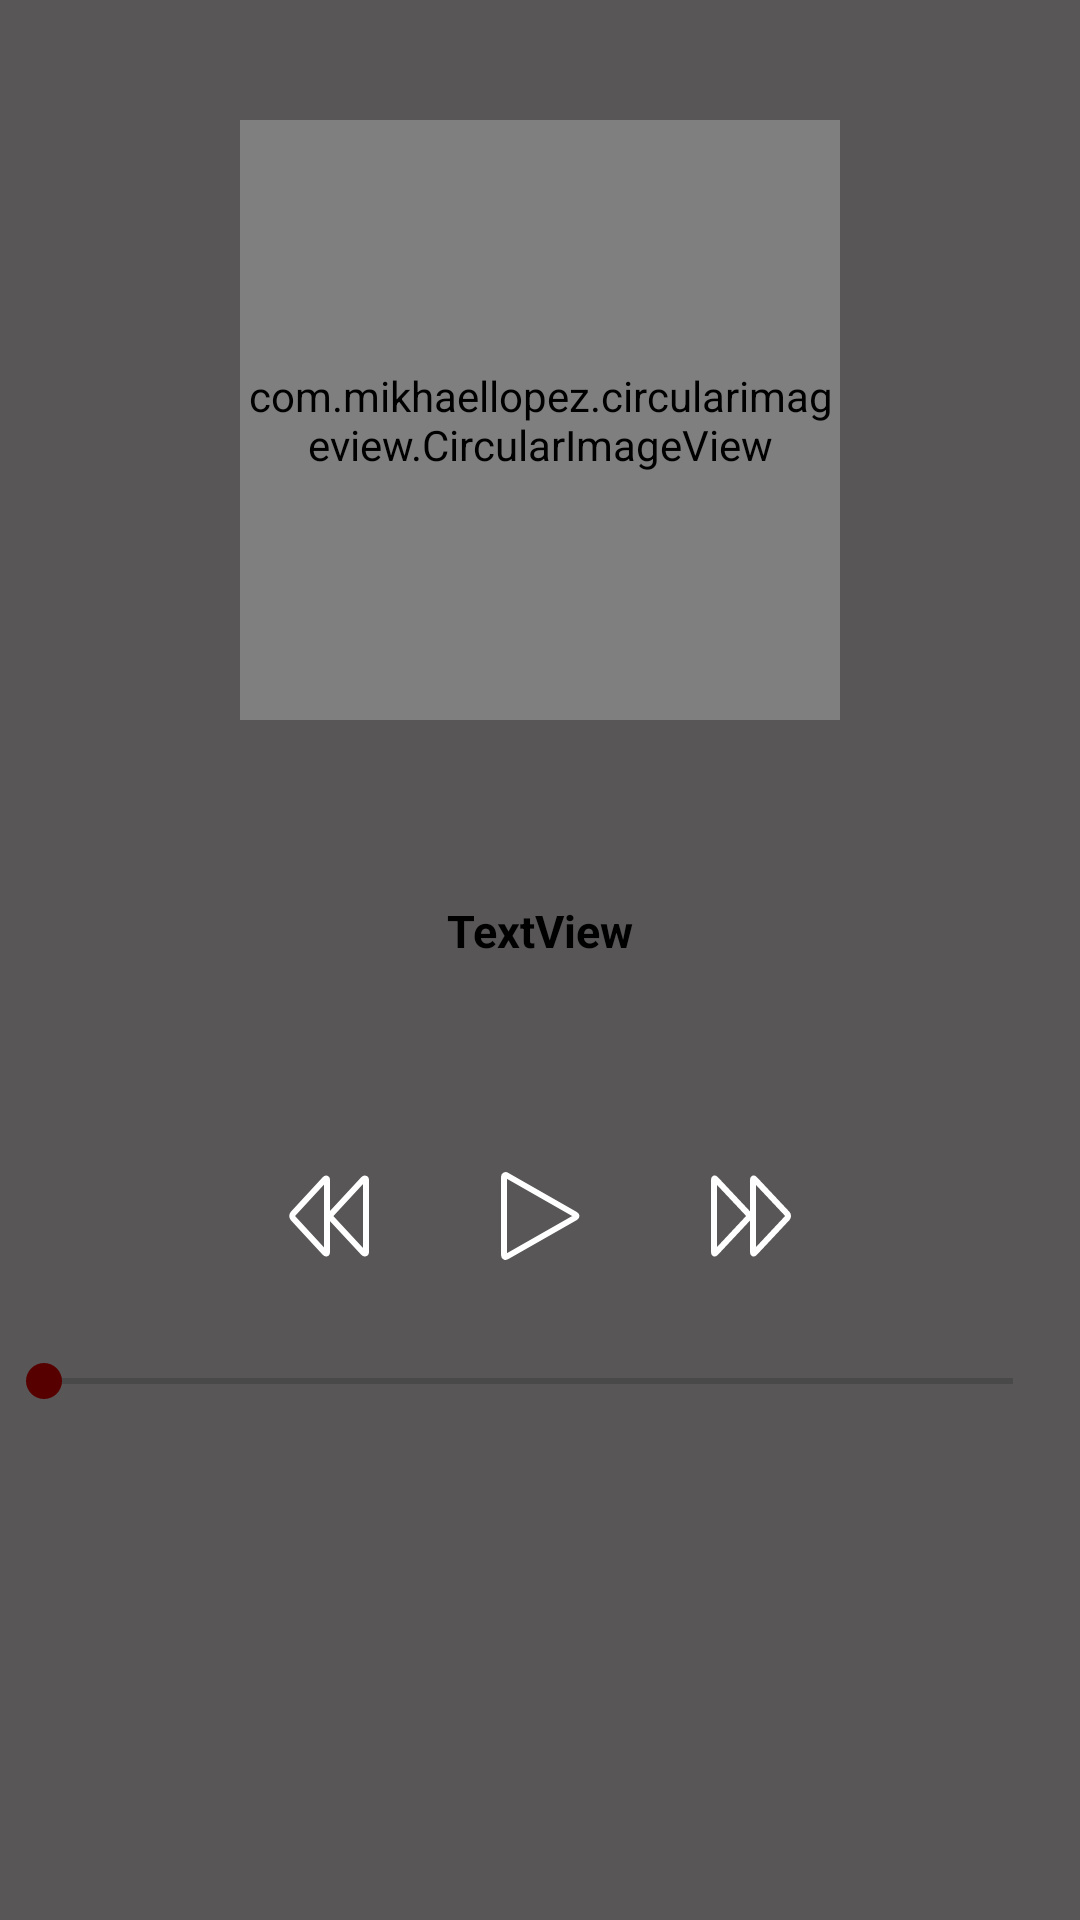

Named icons in this screenshot (1080×1920) and their bounding boxes, (x1, y1, x2, y2):
next: (711, 1175, 791, 1257)
play: (501, 1172, 580, 1260)
previous: (289, 1175, 369, 1257)
